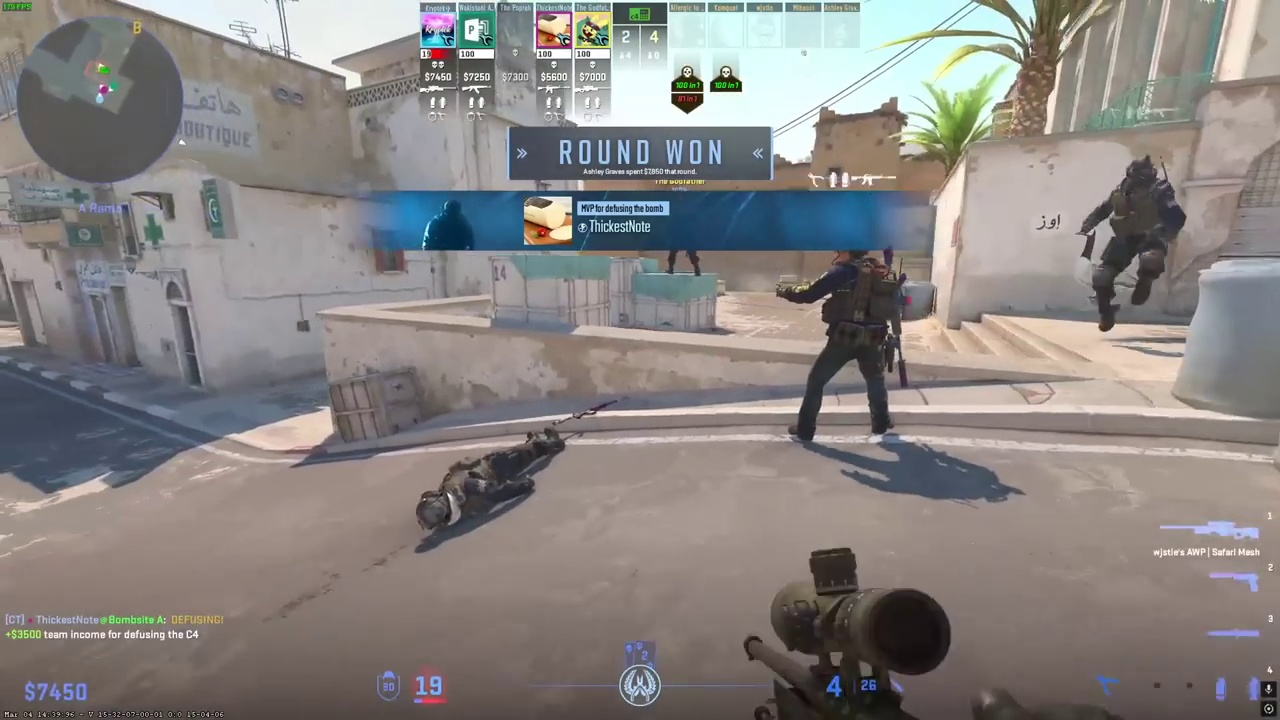CT: (793, 248, 905, 451), (1089, 156, 1180, 331)
